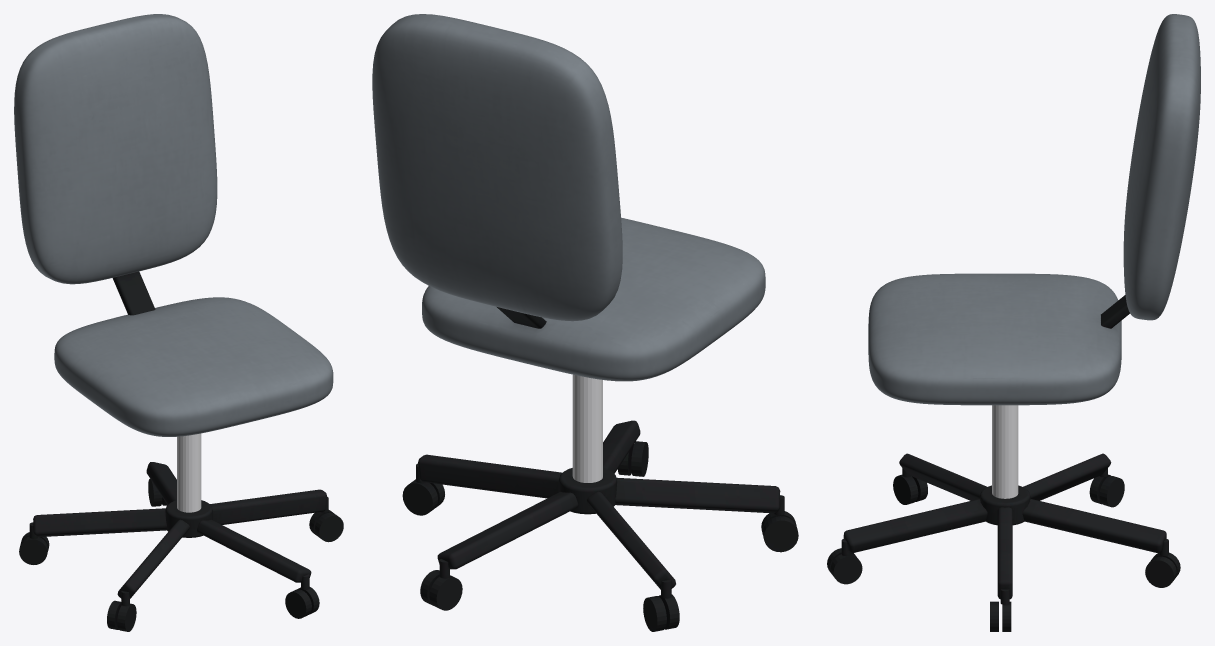
Rendered from task-grey.glb.
3 renders of one model, left to right at view 1: azimuth 30°, elevation 25°; view 2: azimuth 150°, elevation 25°; view 3: azimuth 270°, elevation 25°, orthographic. The views are drawn at different scales.
Parts seen in each view (by area): view 1: fabric_primary, metal_frame, plastic_black, chrome; view 2: fabric_primary, metal_frame, plastic_black, chrome; view 3: fabric_primary, metal_frame, plastic_black, chrome.
Part boxes in pixels (x1,y1,x2,y2): fabric_primary: (14,14,333,436); metal_frame: (29,462,328,605); plastic_black: (19,271,343,631); chrome: (177,433,201,512); fabric_primary: (372,14,765,381); metal_frame: (416,420,784,598); plastic_black: (402,307,798,631); chrome: (572,374,602,482); fabric_primary: (868,14,1200,405); metal_frame: (841,453,1168,604); plastic_black: (827,295,1180,631); chrome: (992,405,1018,498).
Bounding box in the file's own units: 0.6689 × 1.13 × 0.7379.
4 materials, 3 textured.
